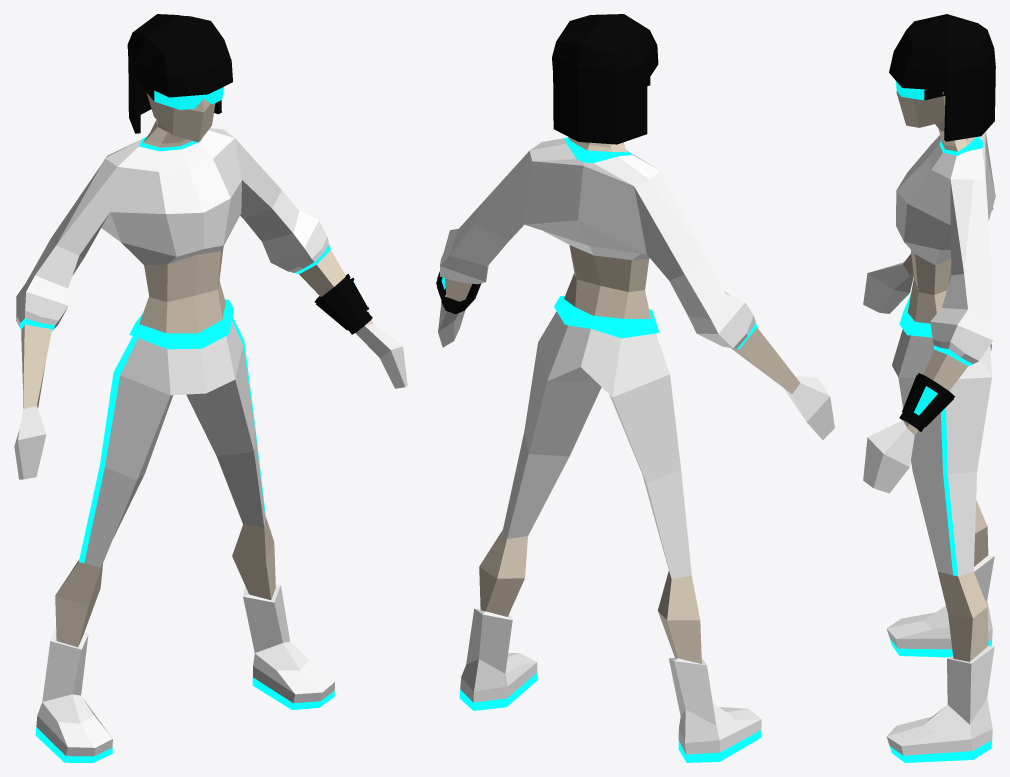
The picture shows the model from 3 angles, left to right: view 1: azimuth 30°, elevation 25°; view 2: azimuth 150°, elevation 25°; view 3: azimuth 270°, elevation 25°; orthographic projection. The views are drawn at different scales.
Parts seen in each view (by area): view 1: BASE_Low Poly Man; view 2: BASE_Low Poly Man; view 3: BASE_Low Poly Man.
Boxes of the visible parts, x1,y1,x2,y2 form: BASE_Low Poly Man: (14, 14, 407, 762); BASE_Low Poly Man: (436, 14, 834, 762); BASE_Low Poly Man: (863, 14, 995, 762).
Size of the model in its own units: 336 by 584 by 103.
